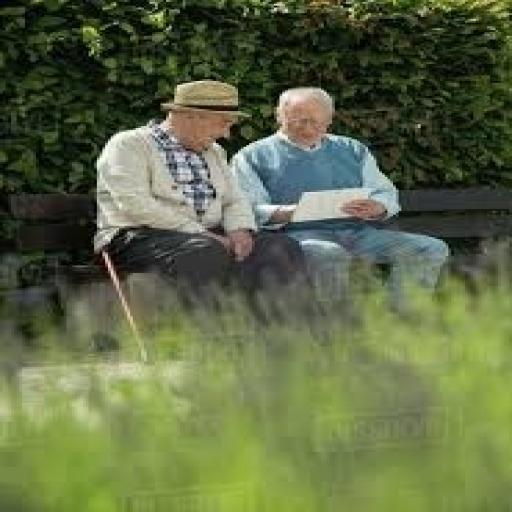sitting: (89, 77, 307, 326), (227, 85, 451, 322)
